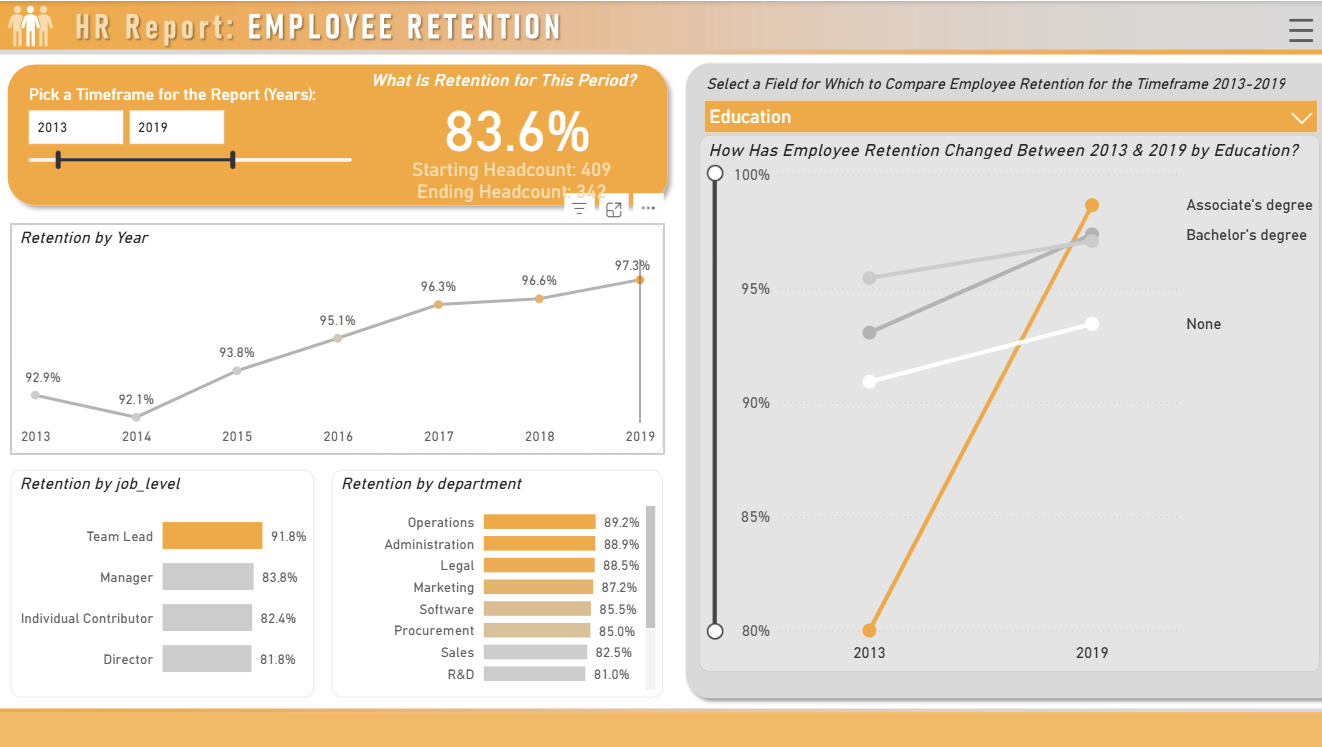

What the dashboard file says about the page in this screenshot:
{"tool":"powerbi","page":{"name":"Retention","canvas":[1280,720],"ordinal":2},"visuals":[{"type":"shape","box":[0,51.5,650.9,153.3],"z":0},{"type":"lineChart","fields":{"Category":["Date.Year"],"Y":["_Measures.Retention"]},"box":[12.6,213.6,625.8,221.2],"z":1000},{"type":"clusteredBarChart","fields":{"Category":["job_level_dim.job_level"],"Y":["_Measures.Retention"]},"box":[12.6,449.9,291.5,218.6],"z":2000},{"type":"clusteredBarChart","fields":{"Category":["department_dim.department"],"Y":["_Measures.Retention"]},"box":[320.4,449.9,317.9,218.6],"z":3000},{"type":"slicer","fields":{"Values":["Parameter.Parameter"]},"box":[666,65.3,609.4,74.1],"z":4000},{"type":"lineChart","fields":{"Category":["Date.Year"],"Series":["education_dim.education"],"Y":["_Measures.Min-Max Retention"]},"box":[672.4,128.2,595.6,515.2],"z":5000},{"type":"card","title":"What Is Retention for This Period?","fields":{"Values":["_Measures.Retention"]},"box":[351.8,65.3,291.5,84.2],"z":6000},{"type":"slicer","fields":{"Values":["Date.Year"]},"box":[16.3,75.4,335.5,105.6],"z":7000},{"type":"card","fields":{"Values":["_Measures.Starting Headcount Text"]},"box":[348.1,139.5,290.3,46.5],"z":8000},{"type":"card","fields":{"Values":["_Measures.Ending Headcount Text"]},"box":[348.1,159.6,290.3,46.5],"z":9000},{"type":"actionButton","box":[1218.6,0,61.4,51.6],"z":10000},{"type":"group","id":"g1","title":"Slicer Panel","box":[958.6,43.7,321.4,637.1],"z":11000},{"type":"shape","box":[0,682.4,1279.7,37.5],"z":12000}]}

Visuals, with their boxes in screenshot pixels (x1, y1, x2, y2), scaled from the page's 1280x720 canvas onto the 1322x747 screenshot:
shape: pyautogui.locateOnScreen(0, 53, 672, 212)
lineChart - Date.Year x _Measures.Retention: pyautogui.locateOnScreen(13, 222, 659, 451)
clusteredBarChart - job_level_dim.job_level x _Measures.Retention: pyautogui.locateOnScreen(13, 467, 314, 694)
clusteredBarChart - department_dim.department x _Measures.Retention: pyautogui.locateOnScreen(331, 467, 659, 694)
slicer - Parameter.Parameter: pyautogui.locateOnScreen(688, 68, 1317, 145)
lineChart - Date.Year x education_dim.education: pyautogui.locateOnScreen(694, 133, 1310, 668)
"What Is Retention for This Period?" card: pyautogui.locateOnScreen(363, 68, 664, 155)
slicer - Date.Year: pyautogui.locateOnScreen(17, 78, 363, 188)
card - _Measures.Starting Headcount Text: pyautogui.locateOnScreen(360, 145, 659, 193)
card - _Measures.Ending Headcount Text: pyautogui.locateOnScreen(360, 166, 659, 214)
actionButton: pyautogui.locateOnScreen(1259, 0, 1321, 54)
"Slicer Panel" group: pyautogui.locateOnScreen(990, 45, 1321, 706)
shape: pyautogui.locateOnScreen(0, 708, 1321, 746)
